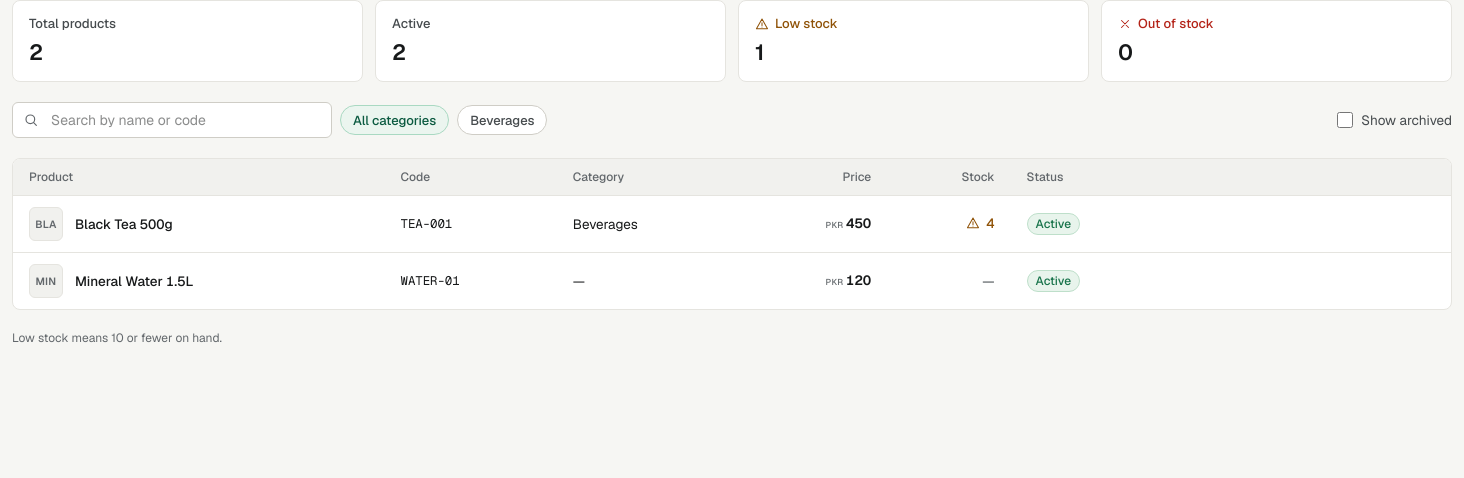
Scenario: CAT-003: Catalog Frontend Slice › ProductList Component › searches by name or code and offers to add a missing product
The width and height of the screenshot is (1464, 478).
Expected: the table is shown, [13,159,1451,309]
Type "WATER" into the field named "Search products".
click(185, 120); type("WATER")  # box [39,103,331,137]
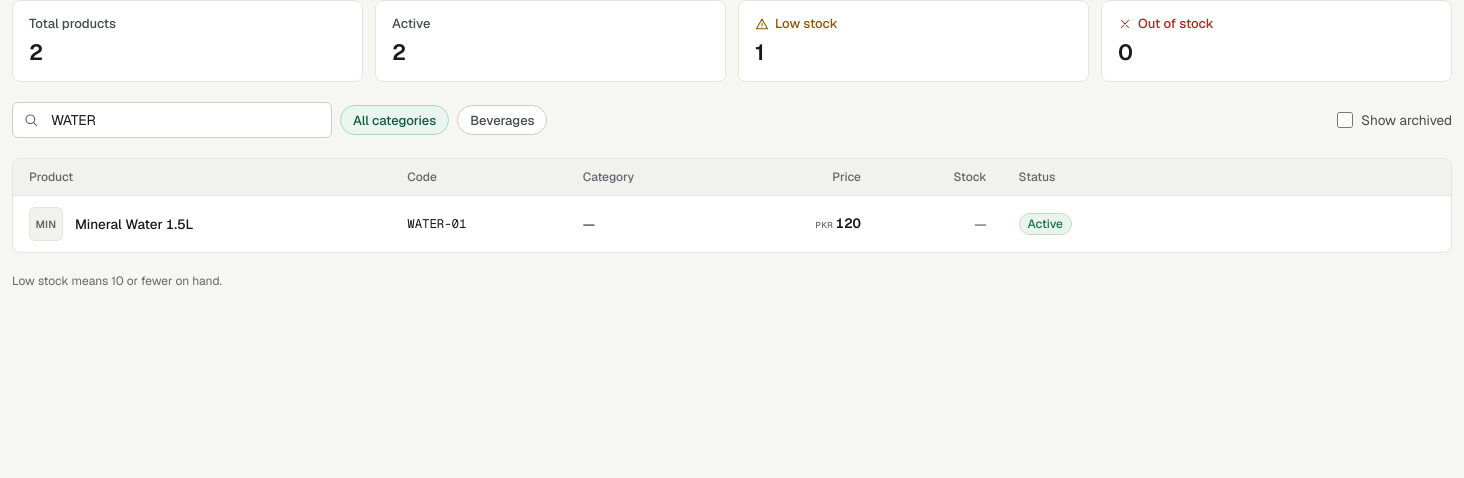
Expected: the table shows "Mineral Water 1.5L", [75,214,193,234]
Expected: the table no longer shows "Black Tea 500g", [13,159,1451,252]
Replace the text in the field named "Search products" with "Saffron" at point(185, 120), box [39,103,331,137]
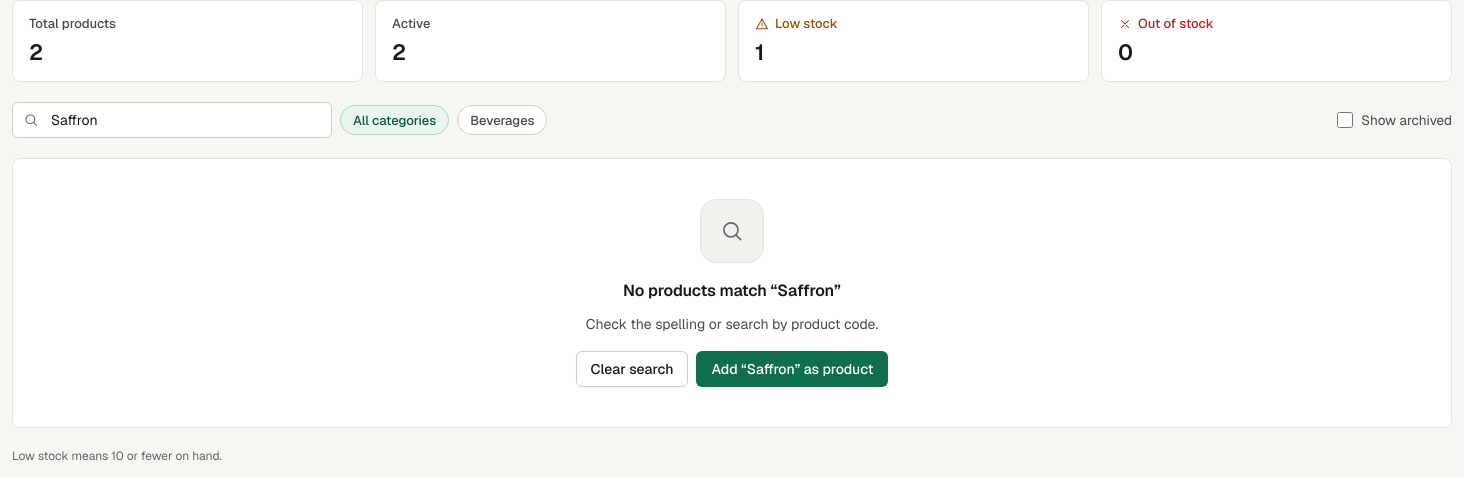
Expected: the heading "No products match “Saffron”" is shown, [623,279,841,303]
Expected: the button "Add “Saffron” as product" is shown, [696,351,888,387]
